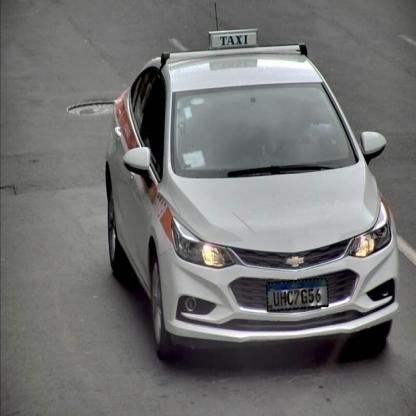PlacaM: (266, 278, 329, 311)
